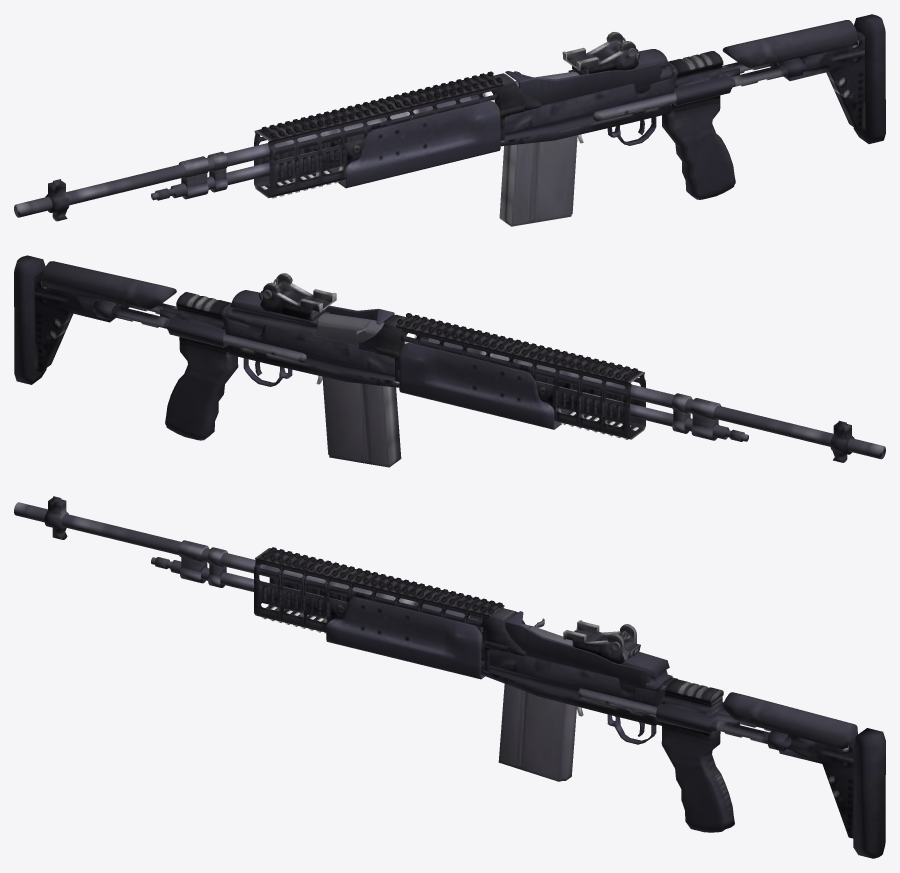
Rendered from guardian.glb.
3 views of the same model, one above another, from view 1: azimuth 30°, elevation 25°; view 2: azimuth 150°, elevation 25°; view 3: azimuth 330°, elevation 25° (orthographic).
Visible parts, largest first — view 1: Cube, Cube.001, Cube.003, Cube.008, Cube.002, Cylinder.005, Cube.014, Cube.012, Cube.007, Cube.015, Cube.009, Cylinder.001 (+9 smaller); view 2: Cube, Cube.001, Cube.003, Cube.008, Cube.002, Cylinder.005, Cube.014, Cube.012, Cube.015, Cube.009, Cylinder.001, Cube.004 (+10 smaller); view 3: Cube, Cube.001, Cube.003, Cube.008, Cube.002, Cube.015, Cylinder.005, Cube.014, Cube.007, Cube.012, Cube.009, Cylinder.001 (+8 smaller).
Part boxes in pixels (bbox=[...]): Cube: bbox=[254, 74, 504, 198]; Cube.001: bbox=[338, 94, 500, 188]; Cube.003: bbox=[662, 51, 735, 199]; Cube.008: bbox=[499, 135, 577, 226]; Cube.002: bbox=[500, 69, 677, 146]; Cylinder.005: bbox=[14, 96, 471, 217]; Cube.014: bbox=[722, 20, 857, 68]; Cube.012: bbox=[776, 30, 865, 131]; Cube.007: bbox=[505, 63, 661, 105]; Cube.015: bbox=[853, 14, 885, 143]; Cube.009: bbox=[261, 71, 502, 138]; Cylinder.001: bbox=[562, 32, 640, 74]; Cube: bbox=[395, 315, 645, 439]; Cube.001: bbox=[399, 336, 561, 429]; Cube.003: bbox=[165, 292, 238, 440]; Cube.008: bbox=[322, 376, 401, 467]; Cube.002: bbox=[222, 311, 399, 387]; Cylinder.005: bbox=[428, 338, 885, 459]; Cube.014: bbox=[41, 261, 176, 309]; Cube.012: bbox=[34, 271, 122, 371]; Cube.015: bbox=[14, 255, 46, 384]; Cube.009: bbox=[396, 313, 638, 380]; Cylinder.001: bbox=[259, 273, 336, 320]; Cube.004: bbox=[227, 290, 329, 336]; Cube: bbox=[254, 548, 504, 670]; Cube.001: bbox=[326, 597, 484, 679]; Cube.003: bbox=[657, 677, 734, 832]; Cube.008: bbox=[498, 684, 576, 781]; Cube.002: bbox=[481, 648, 677, 725]; Cube.015: bbox=[853, 728, 885, 858]; Cylinder.005: bbox=[14, 502, 472, 622]; Cube.014: bbox=[723, 692, 857, 748]; Cube.007: bbox=[505, 611, 650, 688]; Cube.012: bbox=[771, 730, 855, 838]; Cube.009: bbox=[261, 547, 503, 614]; Cylinder.001: bbox=[563, 620, 640, 663].
Bounding box in the file's own units: 1960 × 385 × 101.
2 materials, 1 textured.
